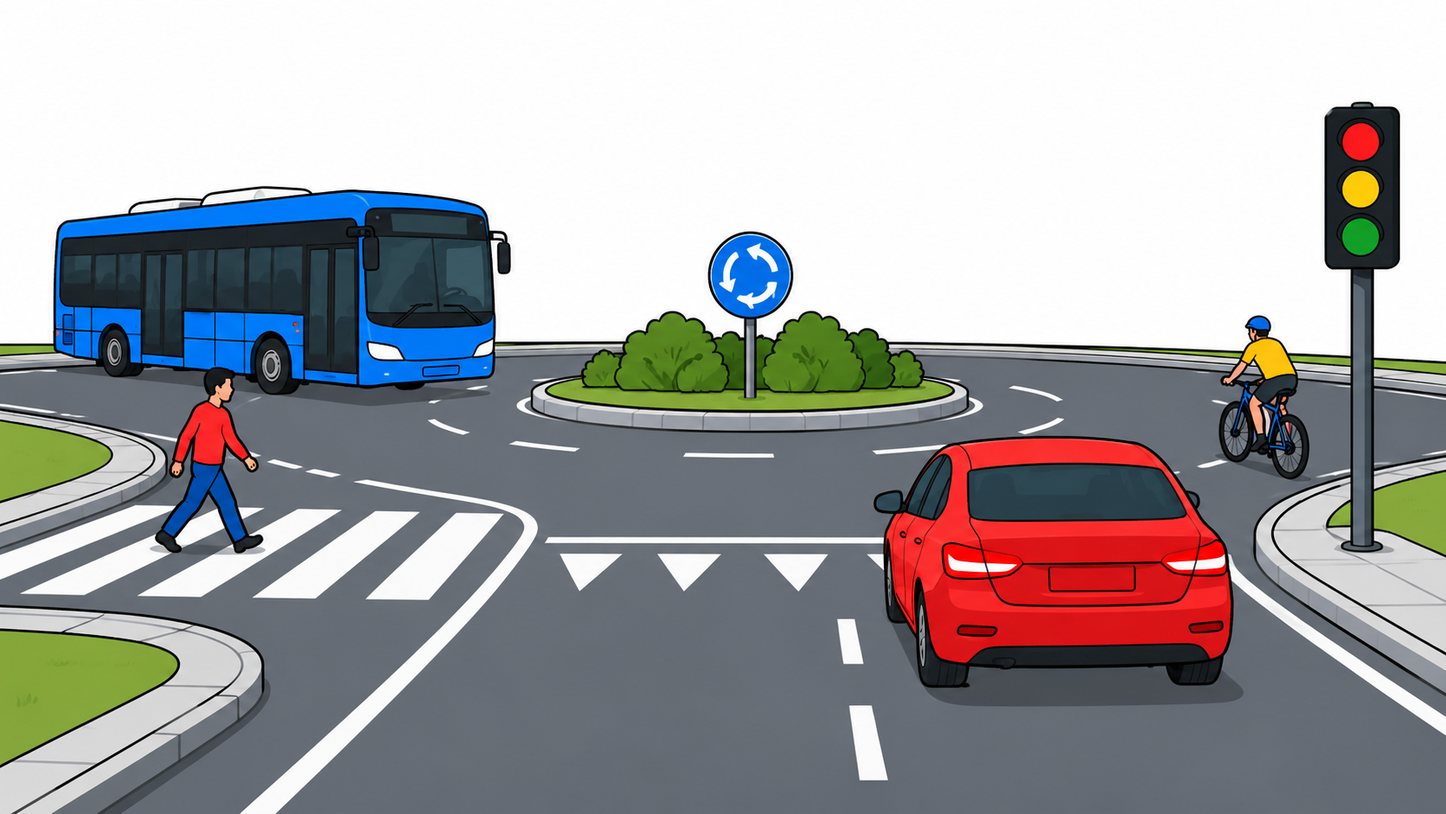bicycle: (1209, 367, 1319, 485)
bus: (50, 183, 503, 399)
car: (868, 433, 1244, 693)
person: (152, 360, 267, 561), (1212, 315, 1319, 465)
traffic_light: (1321, 103, 1403, 272)
zebra_crossing: (0, 495, 569, 607)
